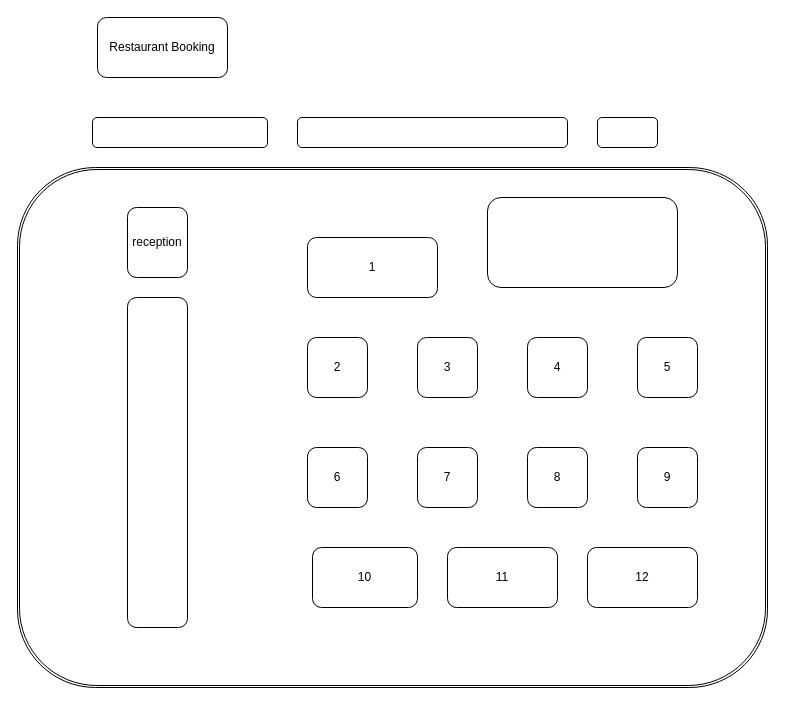
Some shapes in this 785 by 705 pixel diagram are drawn without their labels. The shapes that lost their labels are listed below. From the top down, each one's centre as x and y in pixels, then its label:
At pixel 180 132: "Date".
At pixel 432 132: "Time".
At pixel 627 132: "Guest".
At pixel 582 242: "stage".
At pixel 157 462: "Bar".
